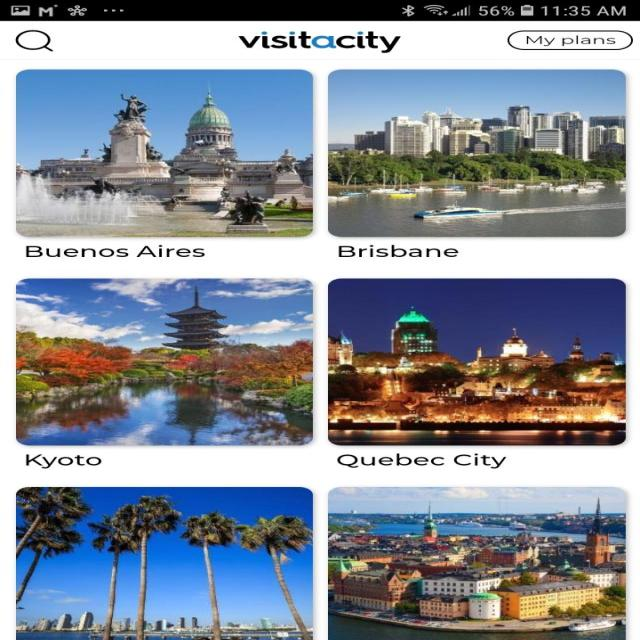Icon: (15, 30, 54, 52)
Image: (326, 69, 625, 237), (15, 69, 313, 237), (327, 278, 625, 445), (15, 278, 313, 445), (328, 486, 625, 640), (16, 486, 313, 640), (237, 31, 401, 53)
Text: (336, 452, 506, 469), (26, 244, 206, 257), (338, 244, 458, 257), (24, 454, 102, 468)
TextButton: (507, 30, 633, 50)
